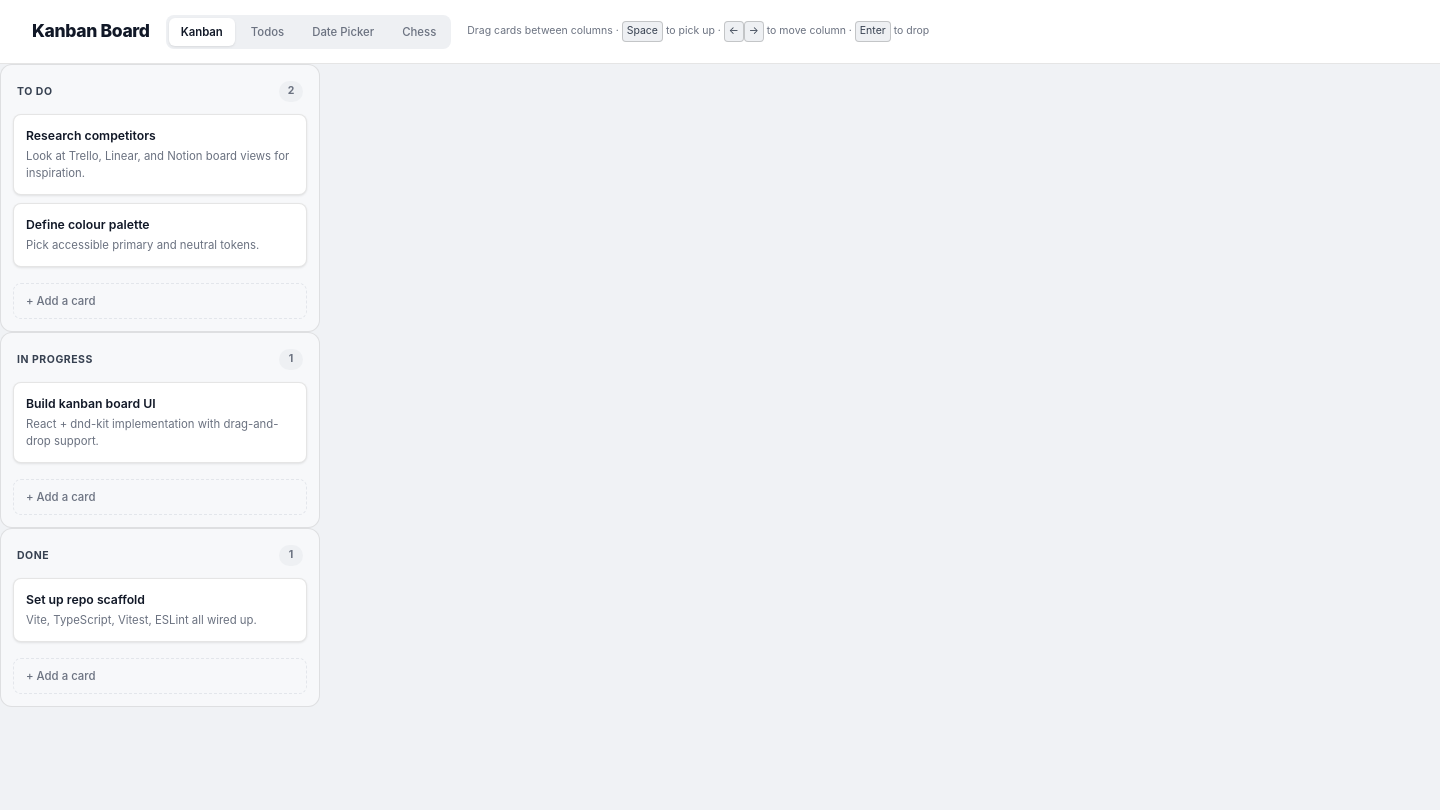
AC3 — inline add-card form › cancel closes the form without adding a card
Click the button with aria-label "add card to to do": (61, 301) [13,283,307,319]
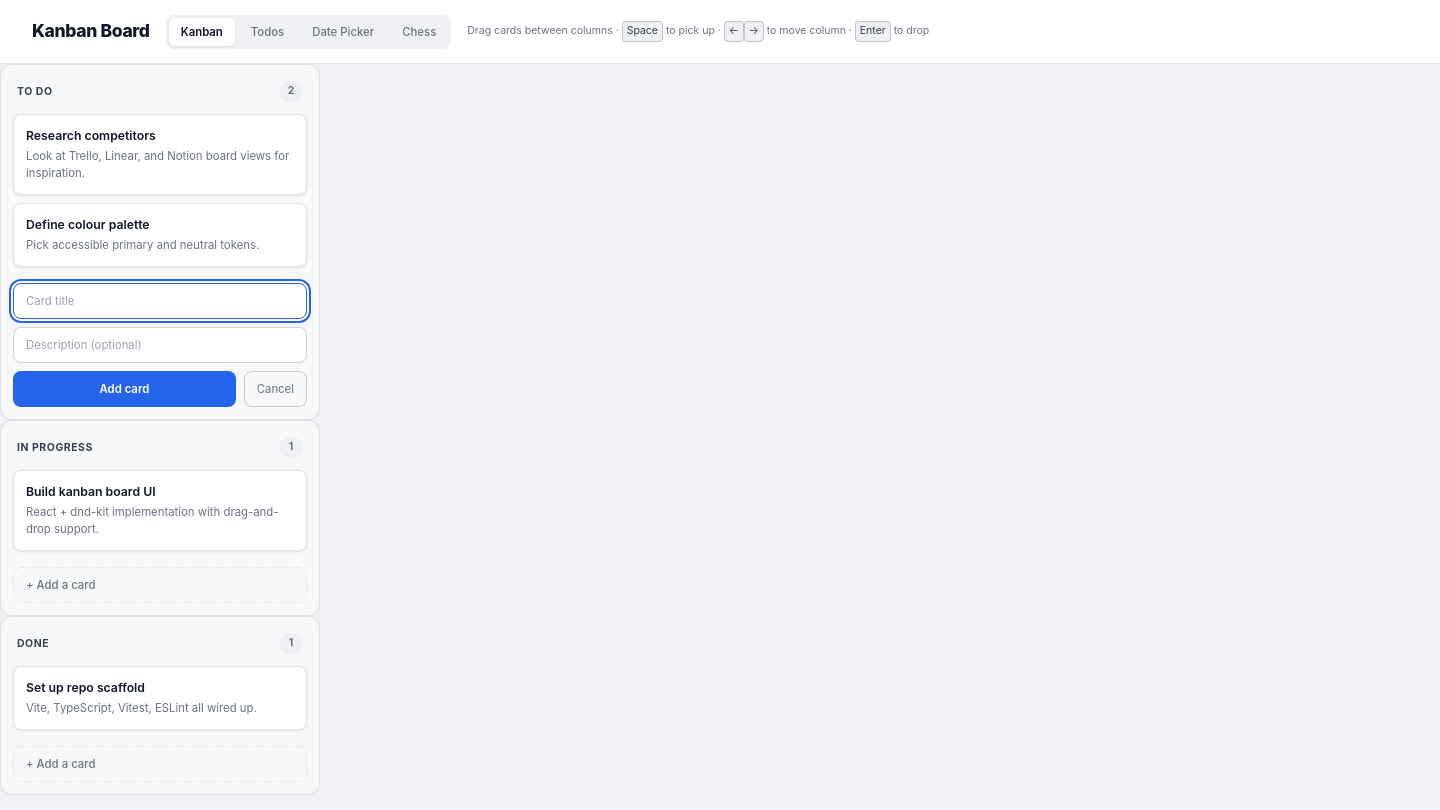
Click the button "Cancel": (275, 389) [244,371,307,407]
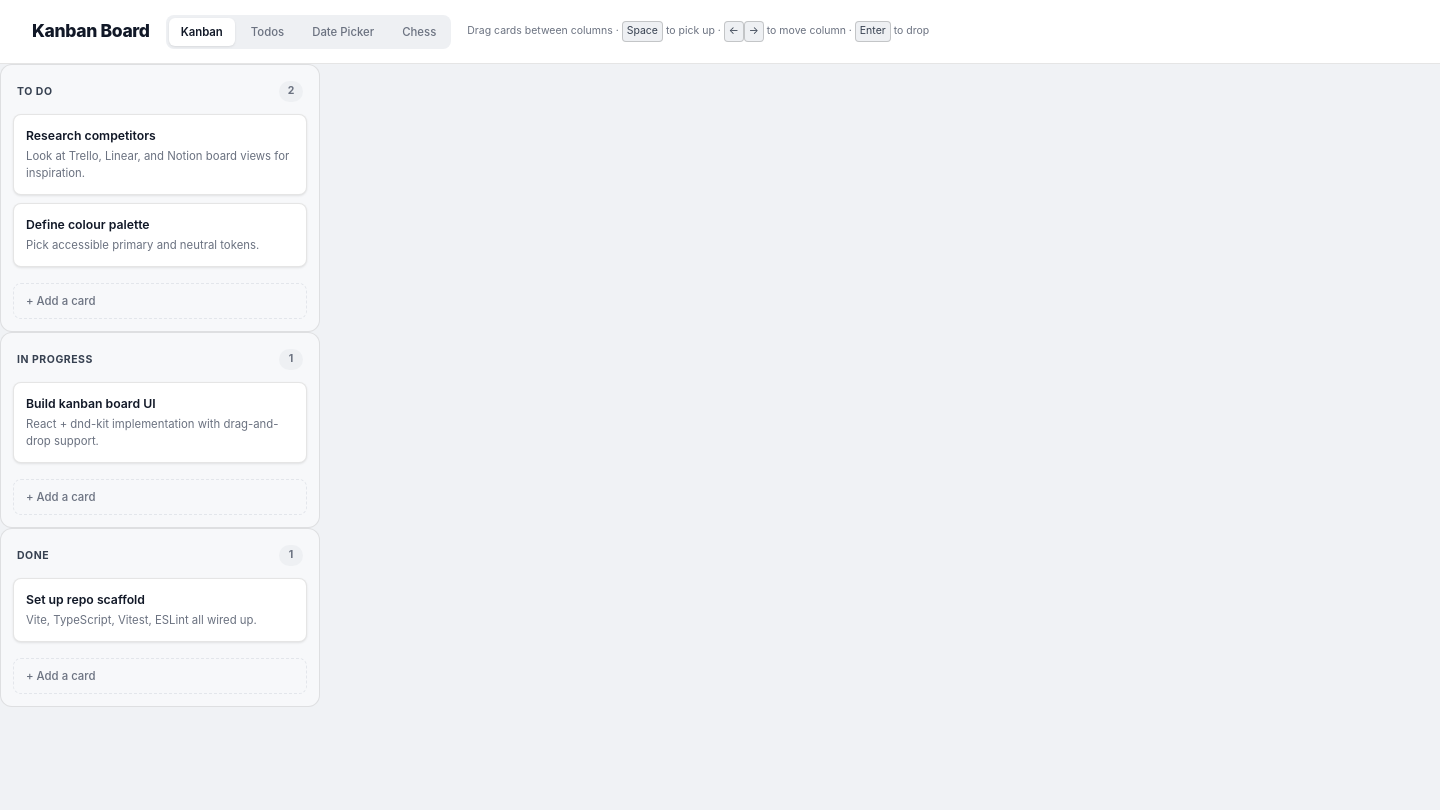
Now the form is gone
